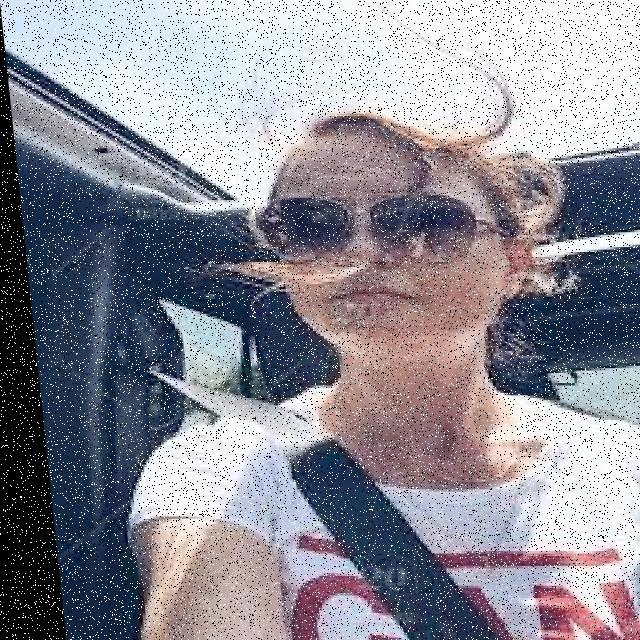seatbelt: (141, 381, 640, 640)
